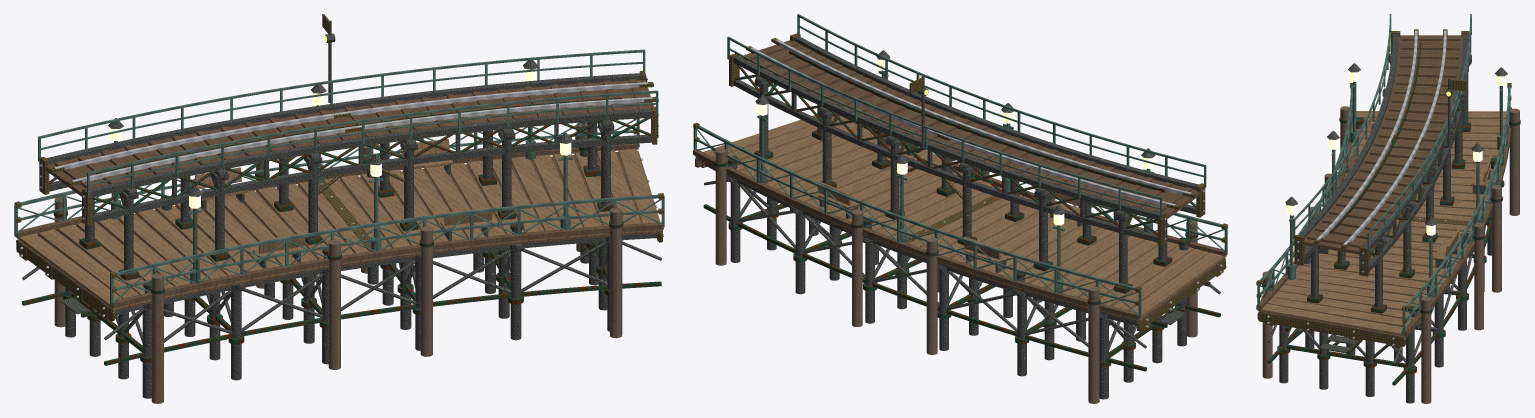
File: muelle_curvo_juego.glb
3 views of the same model, side by side, from view 1: azimuth 30°, elevation 25°; view 2: azimuth 150°, elevation 25°; view 3: azimuth 270°, elevation 25° (orthographic). The views are drawn at different scales.
Visible parts, largest first — view 1: Muelle_Hierro_Muelle, Muelle_Madera_Tablero, Muelle_Madera_Traviesa, Muelle_Barandilla_Verde, Muelle_Hierro_Oxido, Muelle_Defensa_Pilote, Muelle_Acero_Rail, Muelle_Brida_Acople, Muelle_Luz_Farola; view 2: Muelle_Hierro_Muelle, Muelle_Madera_Tablero, Muelle_Madera_Traviesa, Muelle_Barandilla_Verde, Muelle_Hierro_Oxido, Muelle_Defensa_Pilote, Muelle_Acero_Rail, Muelle_Brida_Acople, Muelle_Luz_Farola; view 3: Muelle_Madera_Tablero, Muelle_Madera_Traviesa, Muelle_Hierro_Muelle, Muelle_Barandilla_Verde, Muelle_Defensa_Pilote, Muelle_Hierro_Oxido, Muelle_Brida_Acople, Muelle_Acero_Rail, Muelle_Luz_Farola.
Part boxes in pixels (x1=…): Muelle_Hierro_Muelle: x1=22, y1=20, x2=661, y2=398; Muelle_Madera_Tablero: x1=17, y1=139, x2=662, y2=309; Muelle_Madera_Traviesa: x1=15, y1=79, x2=663, y2=311; Muelle_Barandilla_Verde: x1=14, y1=49, x2=664, y2=306; Muelle_Hierro_Oxido: x1=22, y1=97, x2=661, y2=365; Muelle_Defensa_Pilote: x1=54, y1=122, x2=622, y2=403; Muelle_Acero_Rail: x1=20, y1=77, x2=663, y2=317; Muelle_Brida_Acople: x1=14, y1=14, x2=663, y2=321; Muelle_Luz_Farola: x1=110, y1=68, x2=571, y2=208; Muelle_Hierro_Muelle: x1=704, y1=36, x2=1220, y2=399; Muelle_Madera_Tablero: x1=695, y1=113, x2=1226, y2=320; Muelle_Madera_Traviesa: x1=693, y1=40, x2=1226, y2=322; Muelle_Barandilla_Verde: x1=693, y1=14, x2=1227, y2=318; Muelle_Hierro_Oxido: x1=703, y1=50, x2=1220, y2=371; Muelle_Defensa_Pilote: x1=715, y1=148, x2=1197, y2=403; Muelle_Acero_Rail: x1=750, y1=39, x2=1222, y2=327; Muelle_Brida_Acople: x1=693, y1=33, x2=1227, y2=331; Muelle_Luz_Farola: x1=757, y1=59, x2=1153, y2=225; Muelle_Madera_Tablero: x1=1257, y1=111, x2=1506, y2=336; Muelle_Madera_Traviesa: x1=1256, y1=35, x2=1511, y2=339; Muelle_Hierro_Muelle: x1=1267, y1=33, x2=1507, y2=403; Muelle_Barandilla_Verde: x1=1257, y1=14, x2=1510, y2=334; Muelle_Defensa_Pilote: x1=1262, y1=106, x2=1519, y2=403; Muelle_Hierro_Oxido: x1=1262, y1=42, x2=1520, y2=385; Muelle_Brida_Acople: x1=1256, y1=29, x2=1511, y2=347; Muelle_Acero_Rail: x1=1267, y1=30, x2=1446, y2=346; Muelle_Luz_Farola: x1=1287, y1=71, x2=1506, y2=235.
Bounding box in the file's own units: 12.53 × 5.93 × 6.18.
Materials: 10 (8 with a texture image).
